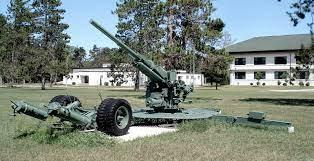MIL_SPG: (11, 20, 294, 136)
